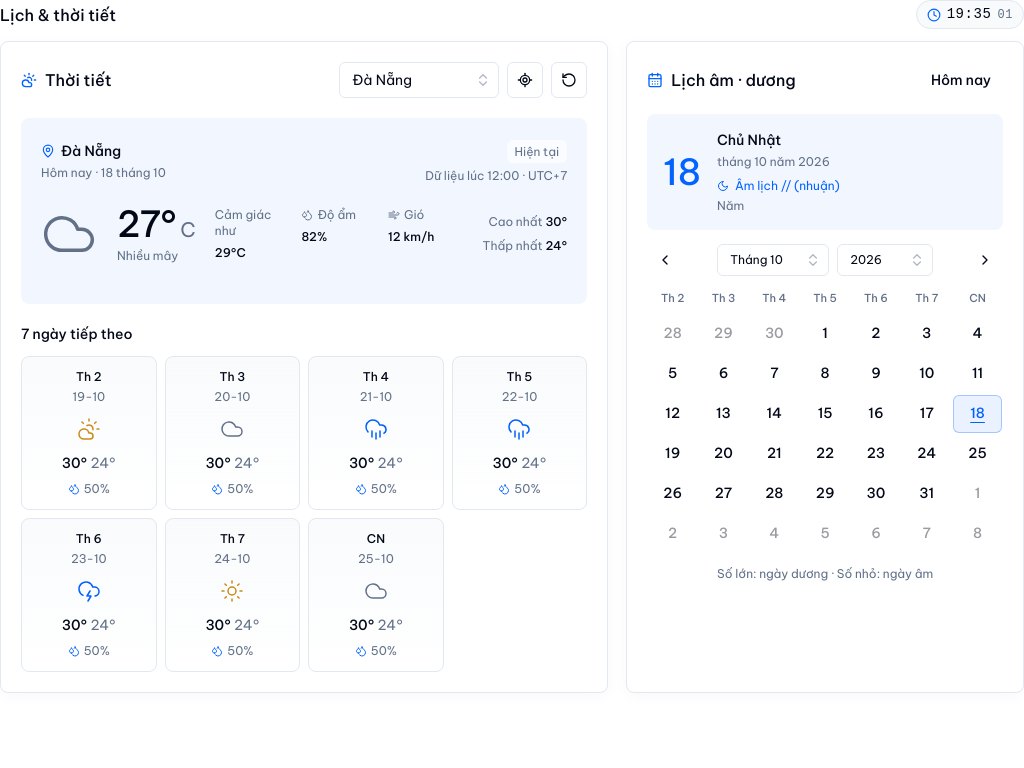
Test: Calendar and weather overview › switches cities, persists the choice and shows the new data
Expected: the text "27°" is shown, [117,201,176,247]
Click the dropdown named "Chọn địa điểm thời tiết": (419, 80) [339,62,499,98]
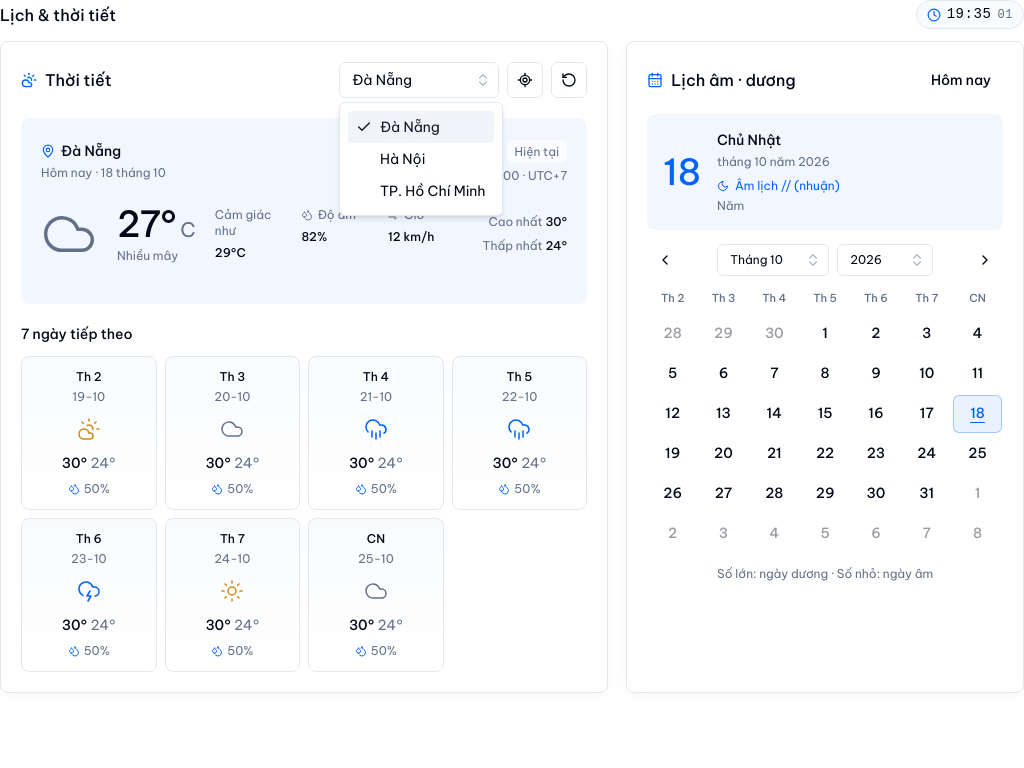
Click the option "Hà Nội": (403, 159) [380,150,425,168]
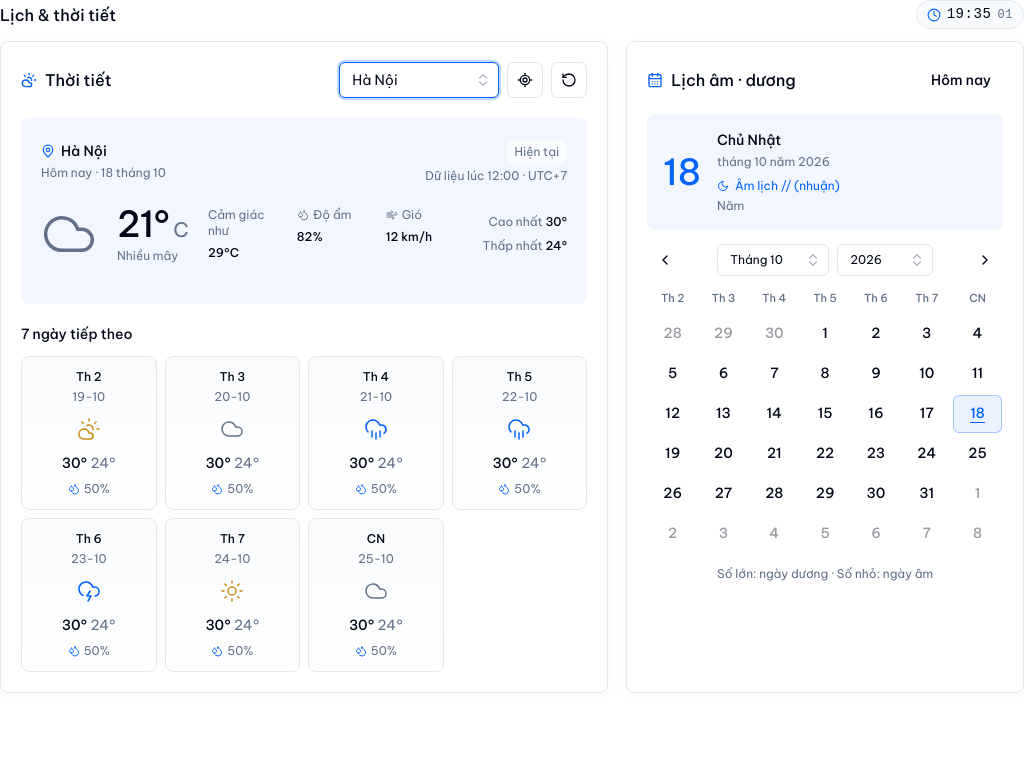
Expected: the text "21°" is shown, [117,201,169,247]
